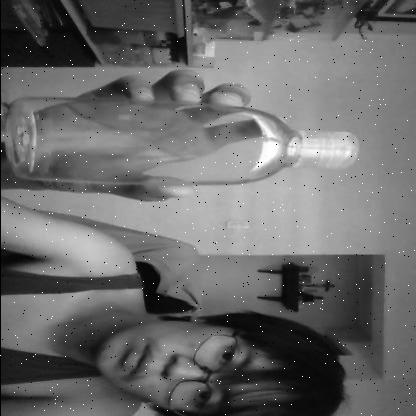Plastic Bottle: (0, 95, 359, 191)
